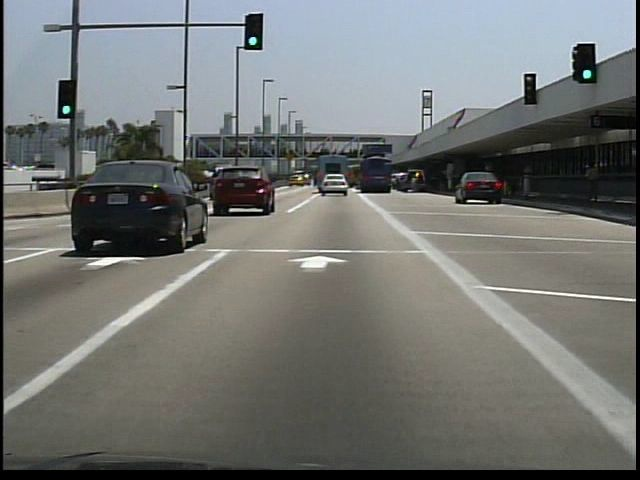person: (580, 158, 601, 207)
